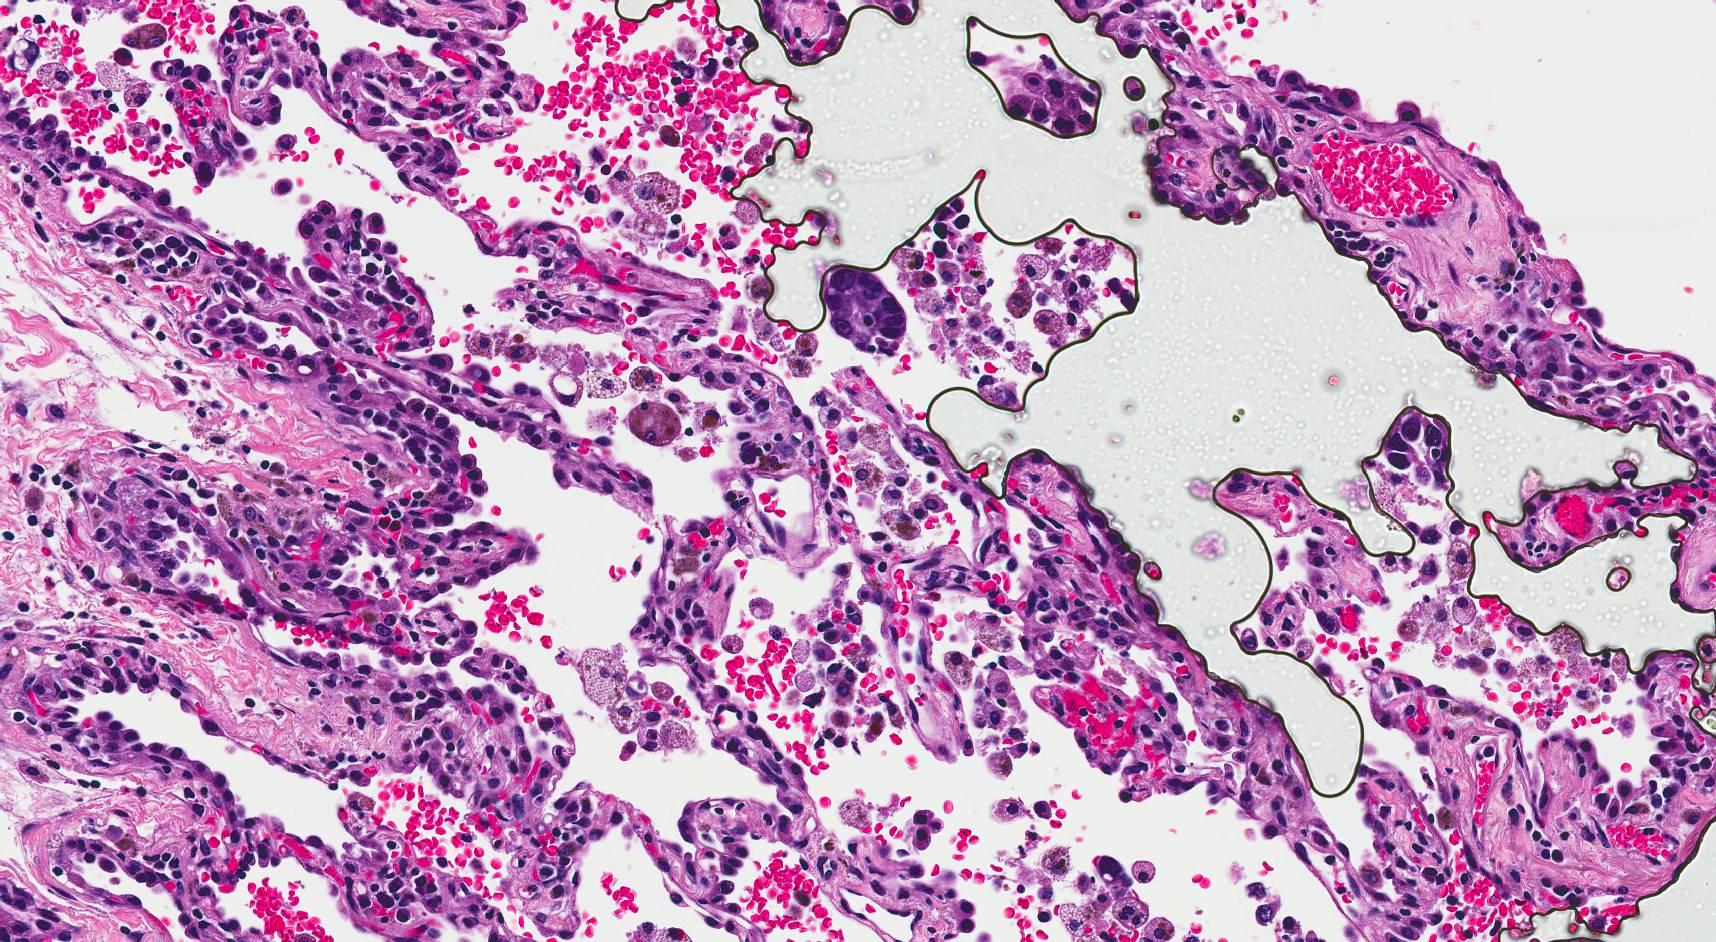stas: (819, 265, 914, 357), (1005, 69, 1102, 139), (1385, 405, 1456, 484)
